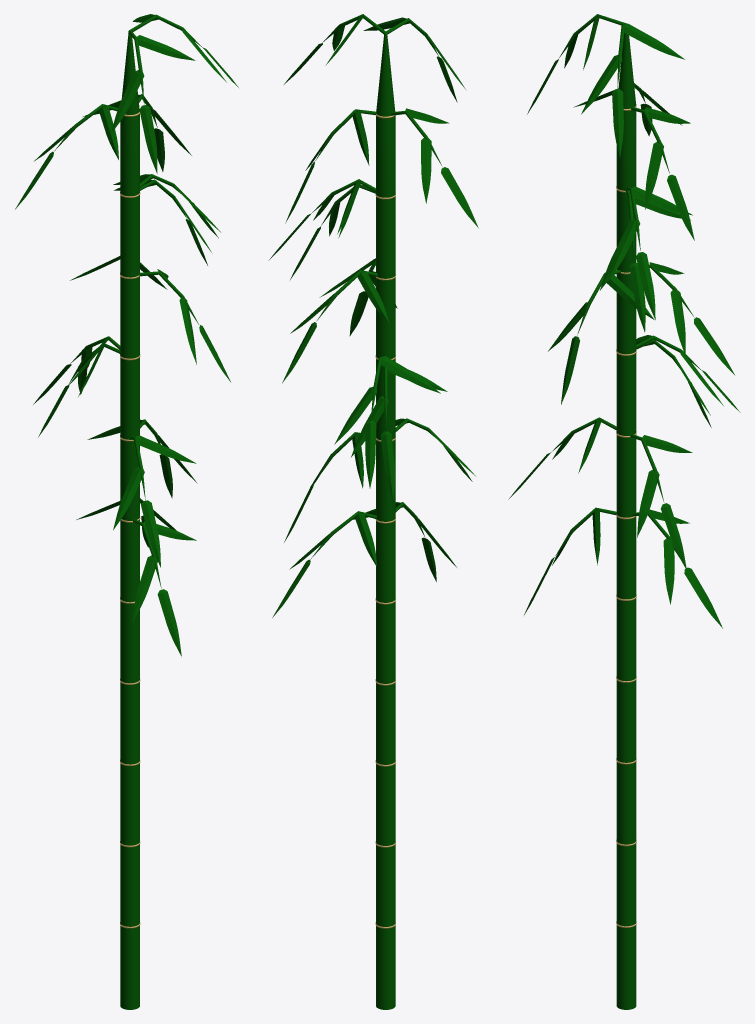
3 renders of one model, left to right at view 1: azimuth 30°, elevation 25°; view 2: azimuth 150°, elevation 25°; view 3: azimuth 270°, elevation 25°, orthographic.
Parts seen in each view (by area): view 1: 竹４; view 2: 竹４; view 3: 竹４.
Boxes of the visible parts, box(x1,y1,x2,y2) form: 竹４: box(15, 14, 238, 1009); 竹４: box(268, 14, 478, 1009); 竹４: box(508, 14, 740, 1009).
Size of the model in its own units: 790 by 3532 by 753.
